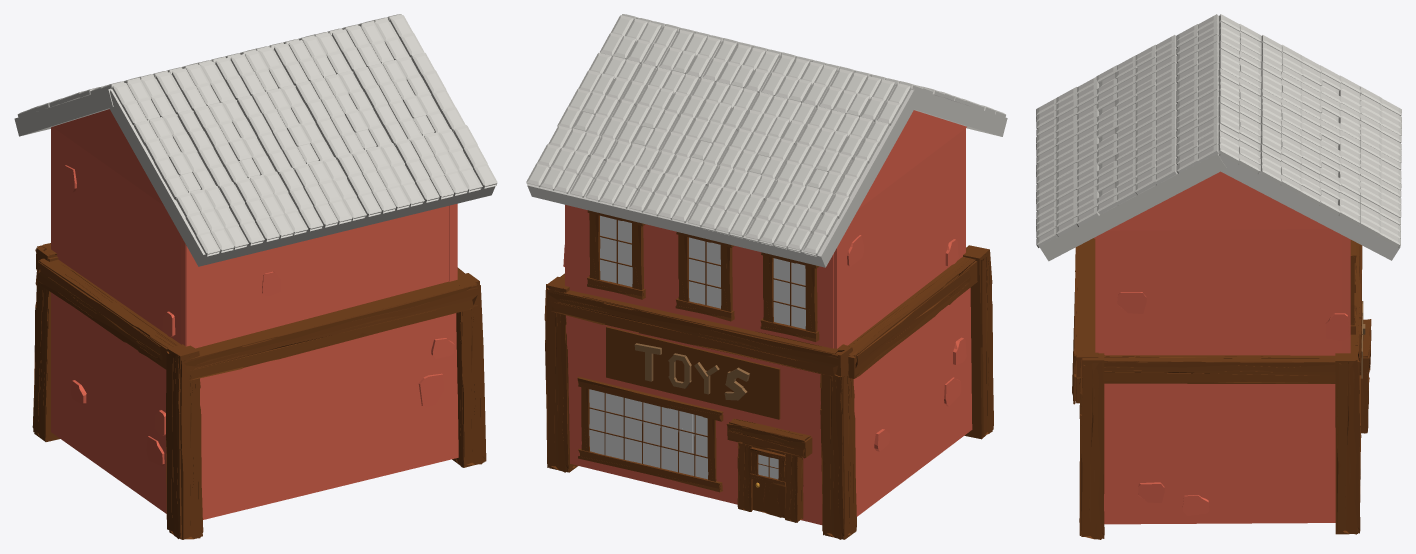
File: Shop4.fbx
The picture shows the model from 3 angles, left to right: view 1: azimuth 30°, elevation 25°; view 2: azimuth 150°, elevation 25°; view 3: azimuth 270°, elevation 25°; orthographic projection. The views are drawn at different scales.
Visible parts, largest first — view 1: Cube.3853, Cube.3857, Cube.3858, Cube.3854, Cube.3959, Cube.3850, Cube.3967, Cube.3962, Cube.3968, Cube.3958, Cube.3966, Cube.3956 (+7 smaller); view 2: Cube.3854, Cube.3858, Cube.3852, Cube.3856, Cube.3916, Cube.3851, Cube.3939, Cube.3947, Cube.3943, Cube.3968, Cube.3956, Cube.3966 (+38 smaller); view 3: Cube.3855, Cube.3859, Cube.3969, Cube.3953, Cube.3964, Cube.3949, Cube.3850, Cube.3851, Cube.3958, Cube.3951, Cube.3856, Cube.3946 (+7 smaller).
Part boxes in pixels (<box>): Cube.3853: <box>200,313,458,519</box>; Cube.3857: <box>181,206,448,348</box>; Cube.3858: <box>51,127,194,347</box>; Cube.3854: <box>51,292,166,513</box>; Cube.3959: <box>184,285,478,379</box>; Cube.3850: <box>109,22,496,266</box>; Cube.3967: <box>180,353,203,539</box>; Cube.3962: <box>461,281,485,465</box>; Cube.3968: <box>52,109,163,205</box>; Cube.3958: <box>188,276,478,377</box>; Cube.3966: <box>166,351,181,539</box>; Cube.3956: <box>37,263,162,362</box>; Cube.3854: <box>853,288,971,516</box>; Cube.3858: <box>834,128,965,348</box>; Cube.3852: <box>566,315,822,524</box>; Cube.3856: <box>565,205,833,348</box>; Cube.3916: <box>606,326,780,419</box>; Cube.3851: <box>527,29,918,267</box>; Cube.3939: <box>547,292,839,376</box>; Cube.3947: <box>545,287,568,472</box>; Cube.3943: <box>821,374,844,539</box>; Cube.3968: <box>859,110,966,208</box>; Cube.3956: <box>855,269,970,378</box>; Cube.3966: <box>980,249,993,436</box>; Cube.3855: <box>1104,383,1335,524</box>; Cube.3859: <box>1095,229,1341,355</box>; Cube.3969: <box>1108,171,1330,230</box>; Cube.3953: <box>1104,361,1335,383</box>; Cube.3964: <box>1081,361,1104,539</box>; Cube.3949: <box>1337,360,1360,534</box>; Cube.3850: <box>1039,153,1226,261</box>; Cube.3851: <box>1219,154,1400,260</box>; Cube.3958: <box>1076,238,1098,377</box>; Cube.3951: <box>1104,355,1335,362</box>; Cube.3856: <box>1341,235,1350,353</box>; Cube.3946: <box>1335,351,1357,534</box>.
Bounding box in the file's own units: 1441 × 1770 × 1526.
